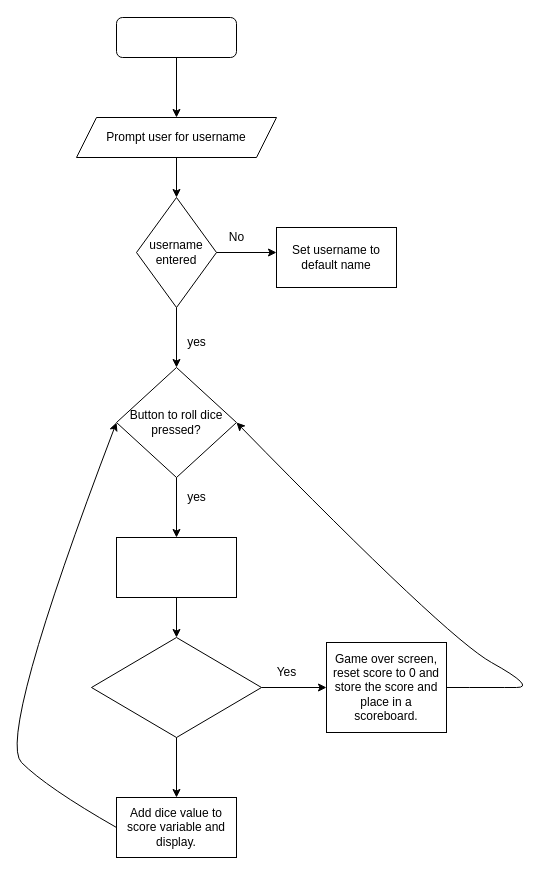
This 541x875 diagram has some shape labels left out. The shapes that lost their labels are listed below. From the top down, each one's centre as x and y in pixels, then its label:
the point at 176,37: Game Start
the point at 176,567: Generate a random dice number and display corresponding dice image.
the point at 176,687: Is dice number equal to 6?
